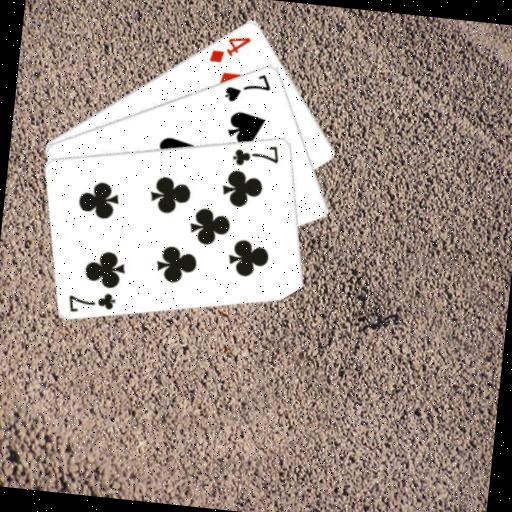4D: (206, 30, 254, 68)
7C: (64, 286, 119, 318), (229, 138, 282, 171)
7S: (221, 67, 274, 108)
